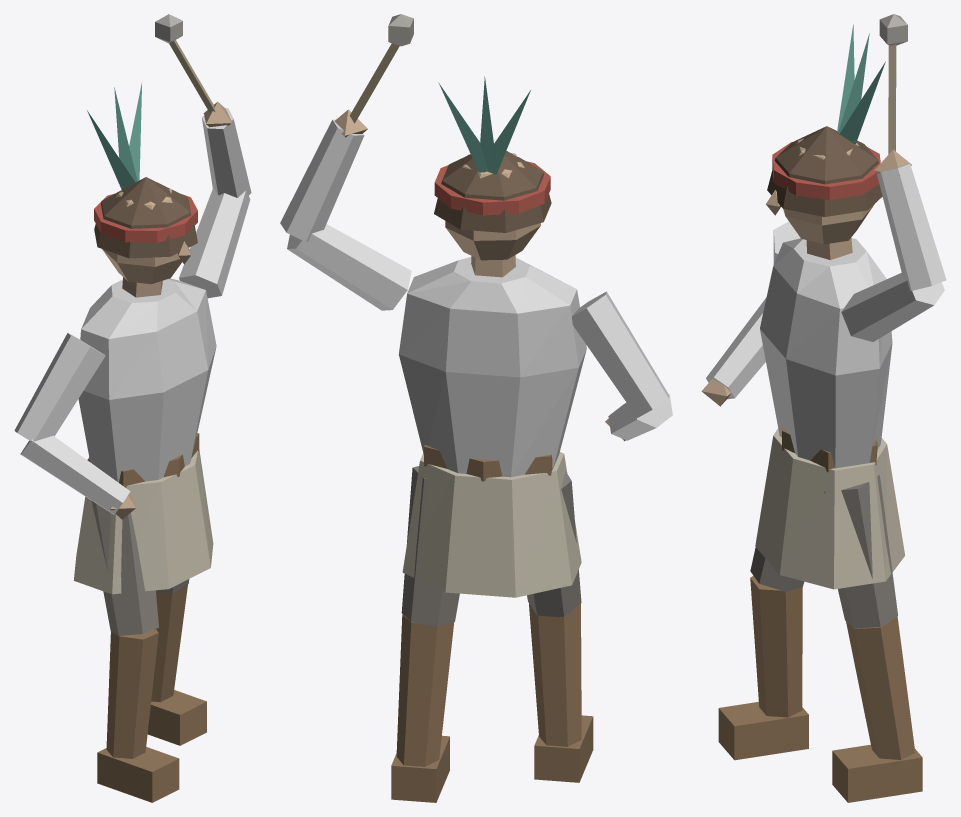
File: slinger.glb
The picture shows the model from 3 angles, left to right: view 1: azimuth 30°, elevation 25°; view 2: azimuth 150°, elevation 25°; view 3: azimuth 270°, elevation 25°; orthographic projection. The views are drawn at different scales.
Visible parts, largest first — view 1: LOD0; view 2: LOD0; view 3: LOD0.
Part boxes in pixels (x1,y1,x2,y2): LOD0: [14, 14, 251, 802]; LOD0: [280, 14, 672, 802]; LOD0: [701, 14, 946, 802].
Size of what is drawn, in the model's own units: 0.5136 by 1.19 by 0.3395.
